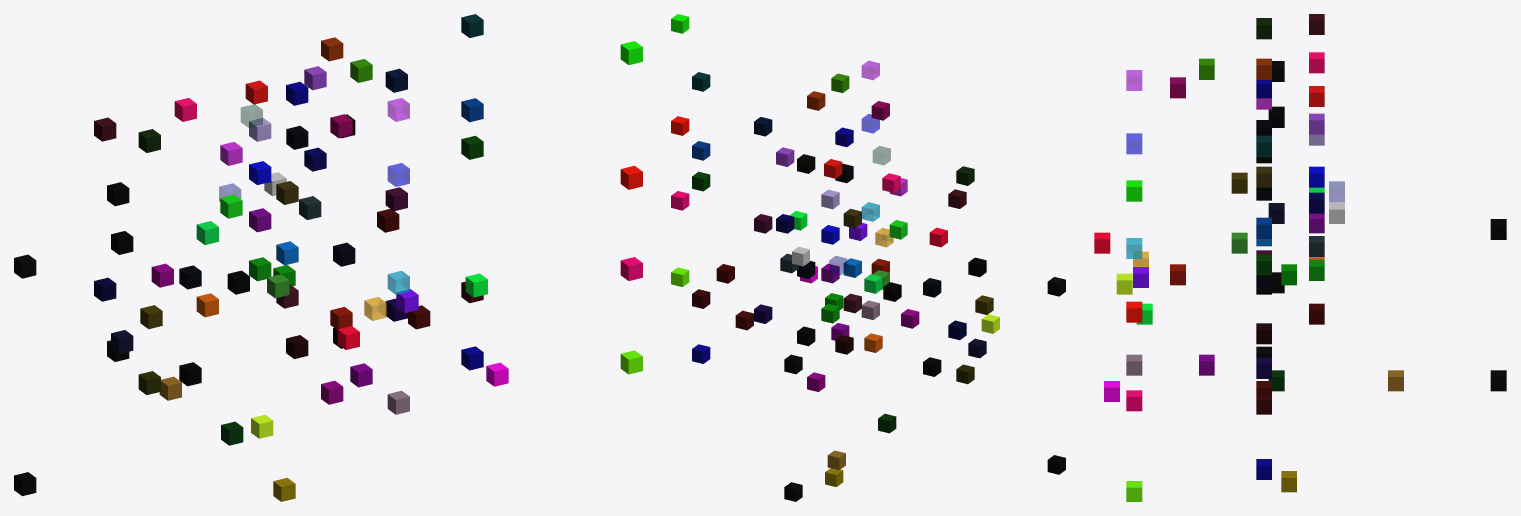
The model's file is testcubemodel5.obj.
The picture shows the model from 3 angles, left to right: view 1: azimuth 30°, elevation 25°; view 2: azimuth 150°, elevation 25°; view 3: azimuth 270°, elevation 25°; orthographic projection. The views are drawn at different scales.
Parts seen in each view (by area): view 1: no part large enough to name; view 2: JREOBJ15; view 3: JREOBJ15.
Boxes of the visible parts, x1=… form: JREOBJ15: x1=784, y1=326, x2=815, y2=374; JREOBJ15: x1=1256, y1=219, x2=1506, y2=357.
Bounding box in the file's own units: 7737 × 6164 × 5198.
